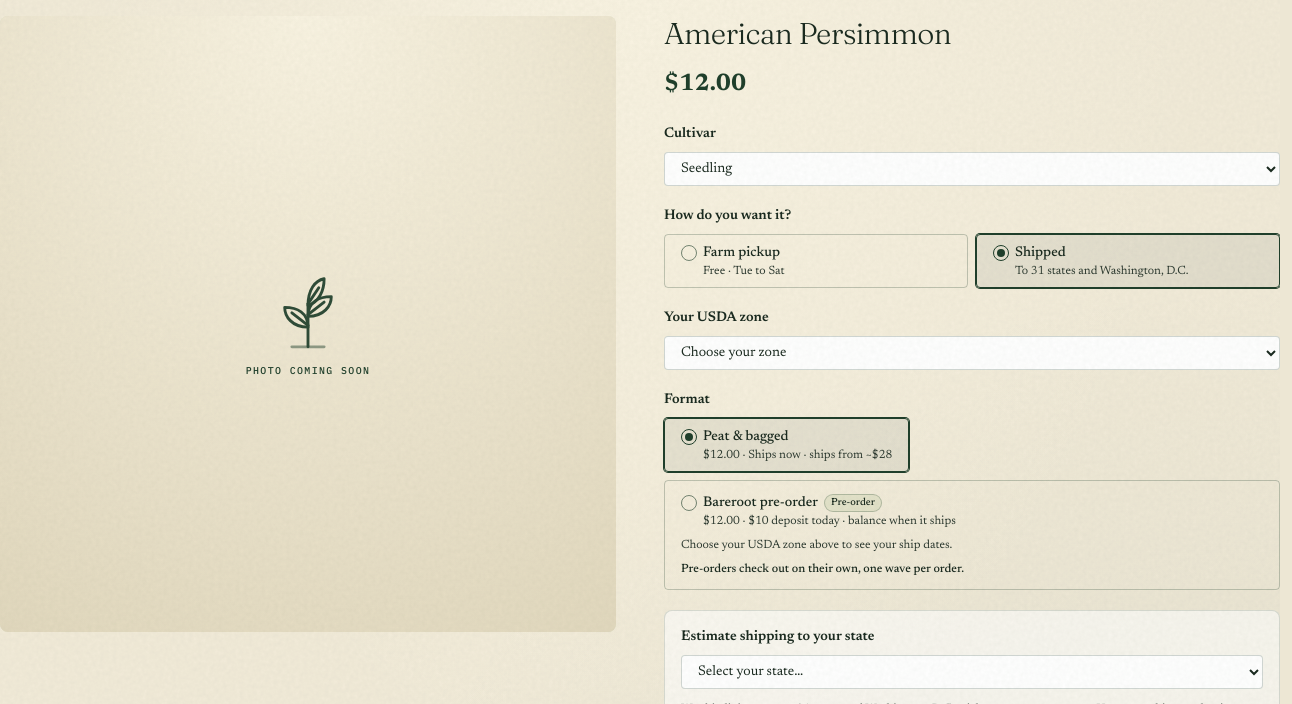
Test case: ProductView: Farm pickup / Shipped gate › Oct 7 Shipped: Peat & bagged + Bareroot pre-order, both waves open for zone 8
This screenshot has width=1292, height=704.
Check: the button "Peat & bagged $12.00 · Ships now · ships from ~$28" is shown, box [664,418,909,472]
Check: the button "Bareroot pre-order" is shown, box [681,493,1263,529]
Select "Zone 8" in the dropdown labelled "Your USDA zone": (972, 353) [664,336,1280,370]
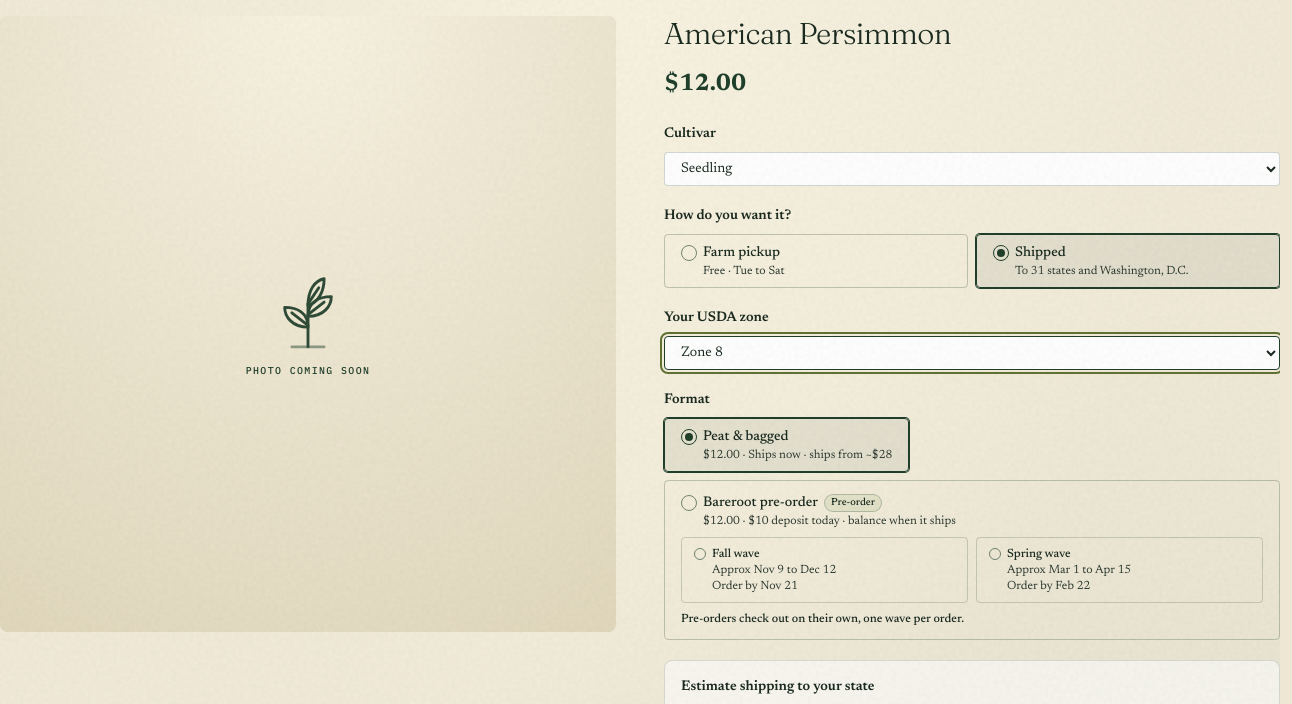
Check: the button "Fall wave Approx Nov 9 to Dec 12 Order by Nov 21" is shown, box [681,537,968,603]
